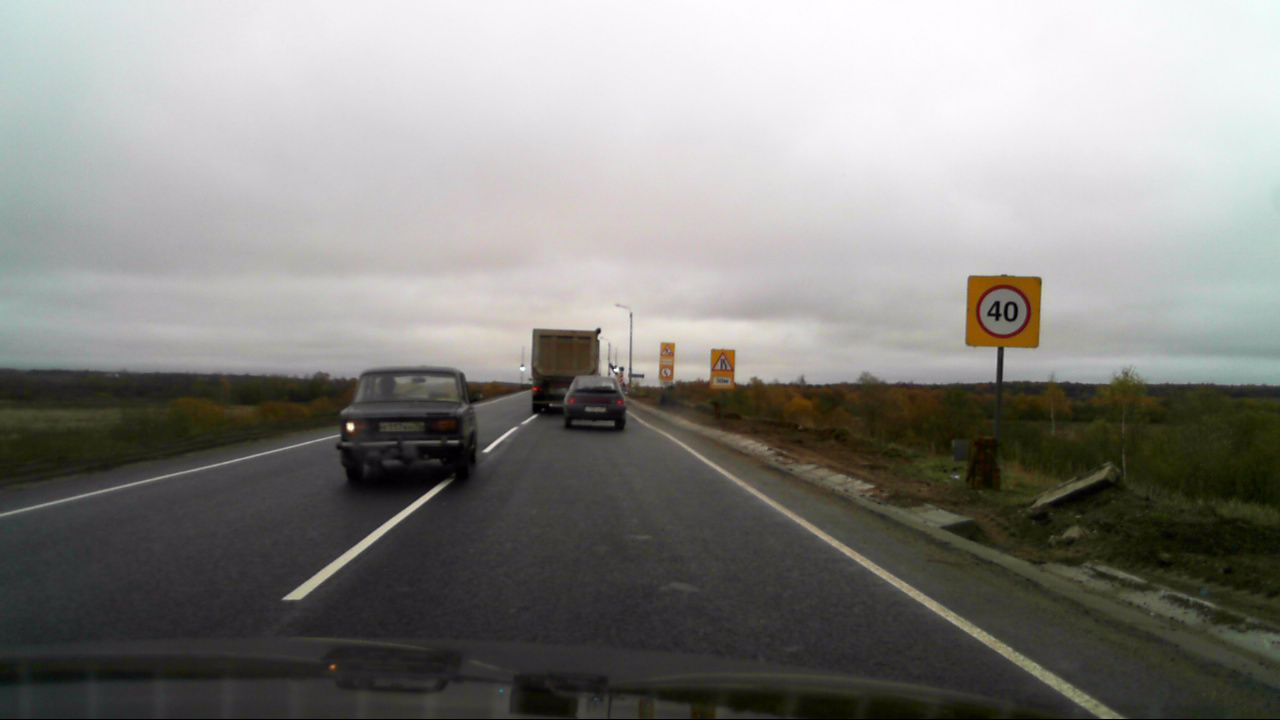speed_warning_40: (966, 275, 1039, 347)
